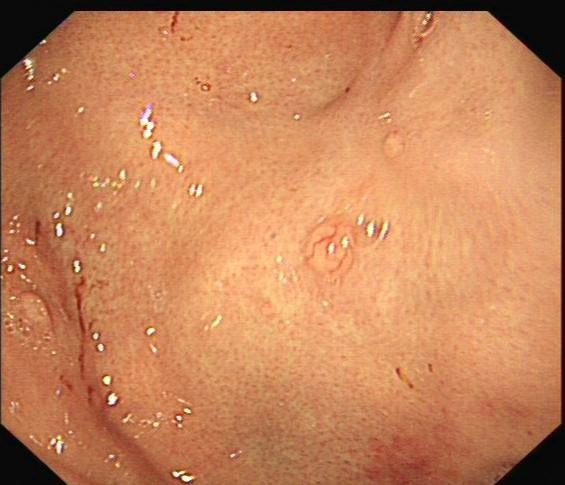Polyp: (301, 226, 356, 277)
